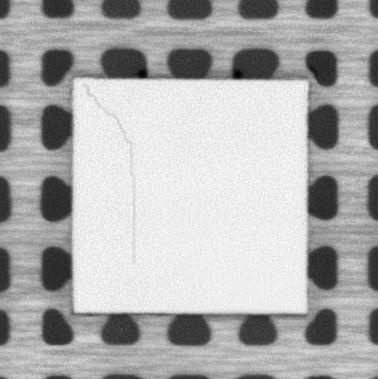DIE_CRACK: (84, 85, 137, 263)
